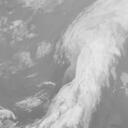cyclone: (65, 24, 112, 86)
